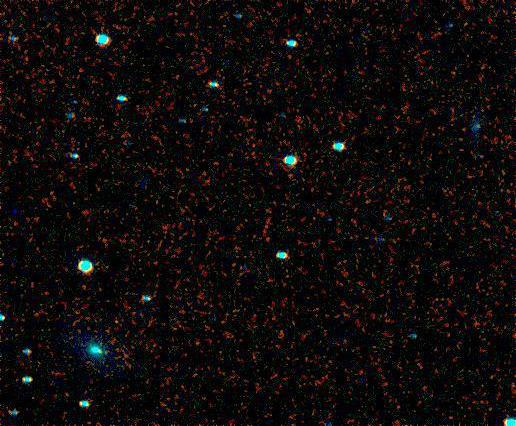star: (0, 196, 30, 226)
